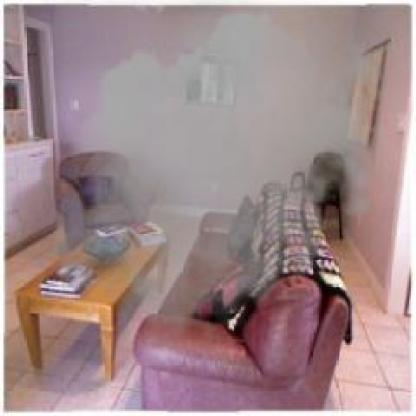Smoke: (43, 1, 396, 354)
